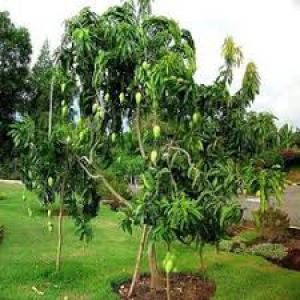Tree: (60, 5, 265, 288)
